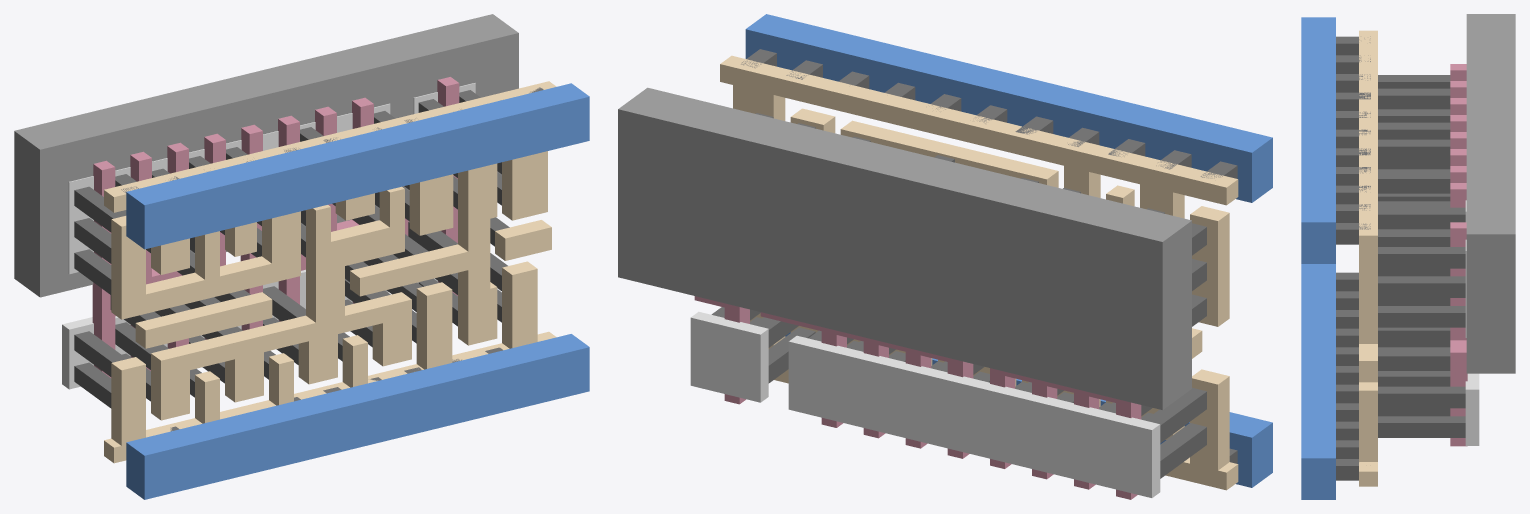
File: sky130_fd_sc_hd__lpflow_isobufsrc_4.gds.gltf
3 renders of one model, left to right at view 1: azimuth 30°, elevation 25°; view 2: azimuth 150°, elevation 25°; view 3: azimuth 270°, elevation 25°, orthographic. The views are drawn at different scales.
Visible parts, largest first — view 1: sky130_fd_sc_hd__lpflow_isobufsrc_4_li1, sky130_fd_sc_hd__lpflow_isobufsrc_4_met1, sky130_fd_sc_hd__lpflow_isobufsrc_4_nwell, sky130_fd_sc_hd__lpflow_isobufsrc_4_licon, sky130_fd_sc_hd__lpflow_isobufsrc_4_poly, sky130_fd_sc_hd__lpflow_isobufsrc_4_diff; view 2: sky130_fd_sc_hd__lpflow_isobufsrc_4_nwell, sky130_fd_sc_hd__lpflow_isobufsrc_4_diff, sky130_fd_sc_hd__lpflow_isobufsrc_4_li1, sky130_fd_sc_hd__lpflow_isobufsrc_4_met1, sky130_fd_sc_hd__lpflow_isobufsrc_4_licon, sky130_fd_sc_hd__lpflow_isobufsrc_4_poly, sky130_fd_sc_hd__lpflow_isobufsrc_4_mcon; view 3: sky130_fd_sc_hd__lpflow_isobufsrc_4_licon, sky130_fd_sc_hd__lpflow_isobufsrc_4_nwell, sky130_fd_sc_hd__lpflow_isobufsrc_4_met1, sky130_fd_sc_hd__lpflow_isobufsrc_4_mcon, sky130_fd_sc_hd__lpflow_isobufsrc_4_li1, sky130_fd_sc_hd__lpflow_isobufsrc_4_poly, sky130_fd_sc_hd__lpflow_isobufsrc_4_diff.
Boxes of the visible parts, x1,y1,x2,y2 form: sky130_fd_sc_hd__lpflow_isobufsrc_4_li1: (104, 81, 556, 463); sky130_fd_sc_hd__lpflow_isobufsrc_4_met1: (126, 83, 589, 499); sky130_fd_sc_hd__lpflow_isobufsrc_4_nwell: (14, 14, 518, 297); sky130_fd_sc_hd__lpflow_isobufsrc_4_licon: (74, 90, 509, 408); sky130_fd_sc_hd__lpflow_isobufsrc_4_poly: (92, 77, 459, 377); sky130_fd_sc_hd__lpflow_isobufsrc_4_diff: (62, 83, 475, 389); sky130_fd_sc_hd__lpflow_isobufsrc_4_nwell: (618, 87, 1191, 409); sky130_fd_sc_hd__lpflow_isobufsrc_4_diff: (690, 311, 1160, 497); sky130_fd_sc_hd__lpflow_isobufsrc_4_li1: (720, 55, 1238, 490); sky130_fd_sc_hd__lpflow_isobufsrc_4_met1: (745, 14, 1272, 487); sky130_fd_sc_hd__lpflow_isobufsrc_4_licon: (711, 113, 1206, 478); sky130_fd_sc_hd__lpflow_isobufsrc_4_poly: (694, 296, 1141, 499); sky130_fd_sc_hd__lpflow_isobufsrc_4_mcon: (741, 49, 1237, 463); sky130_fd_sc_hd__lpflow_isobufsrc_4_licon: (1378, 75, 1465, 437); sky130_fd_sc_hd__lpflow_isobufsrc_4_nwell: (1466, 14, 1515, 373); sky130_fd_sc_hd__lpflow_isobufsrc_4_met1: (1301, 17, 1335, 499); sky130_fd_sc_hd__lpflow_isobufsrc_4_mcon: (1336, 36, 1370, 480); sky130_fd_sc_hd__lpflow_isobufsrc_4_li1: (1359, 30, 1377, 486); sky130_fd_sc_hd__lpflow_isobufsrc_4_poly: (1450, 64, 1467, 446); sky130_fd_sc_hd__lpflow_isobufsrc_4_diff: (1465, 200, 1479, 445).
Bounding box in the file's own units: 5.44 × 3.2 × 2.24.
